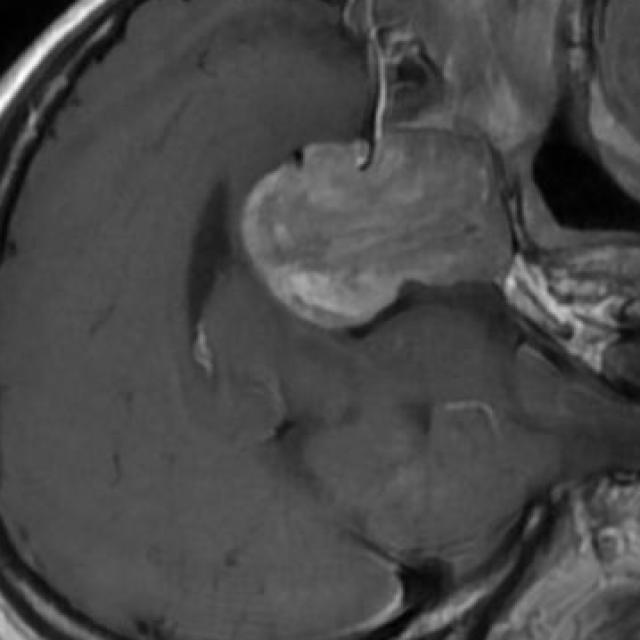pituitary: (244, 130, 515, 330)
